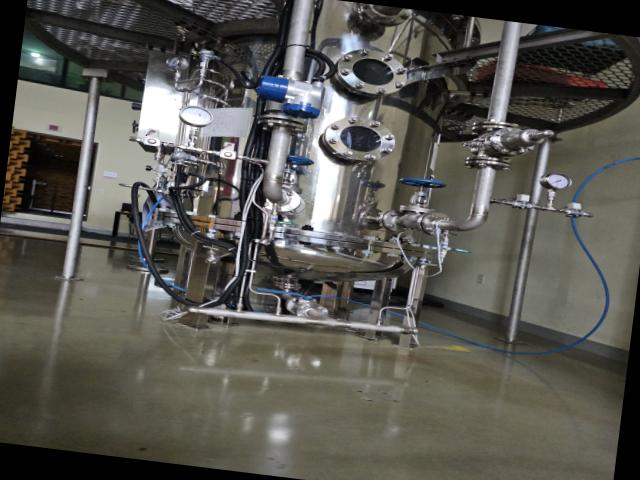Flange: (320, 114, 397, 169), (333, 46, 411, 100)
Flush Ring: (254, 183, 304, 215), (354, 3, 414, 29), (253, 112, 309, 137), (414, 210, 453, 238), (470, 118, 520, 138), (464, 154, 513, 174), (379, 207, 412, 234), (294, 300, 329, 322)
GasRegulator: (162, 45, 238, 108)
Nuts: (214, 148, 242, 162), (139, 136, 164, 149), (508, 199, 534, 211), (562, 208, 588, 219)
Piston Valve: (394, 176, 446, 216), (279, 154, 315, 194)
Pressure Gage: (174, 104, 214, 150), (536, 171, 572, 211)
